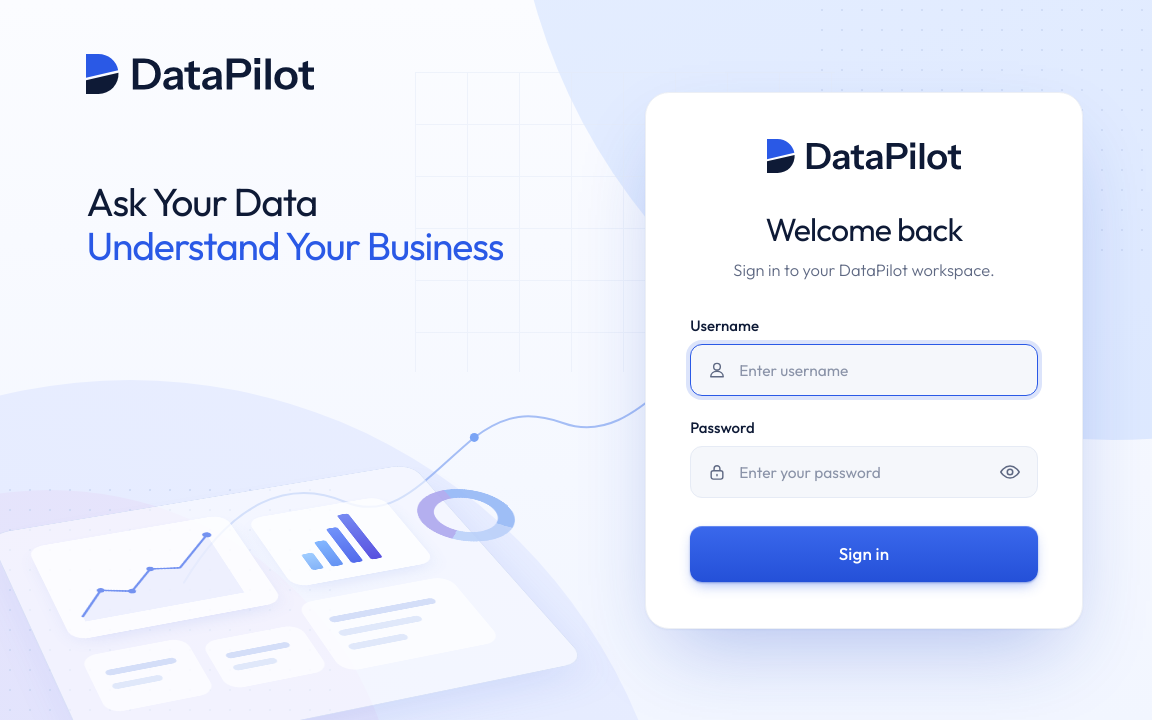
Scenario: login page › moves to the password when only the username is filled in
Type "demo-user-fake" into the field labelled "Username" at (880, 370), box left=739, top=344, right=1021, bottom=394
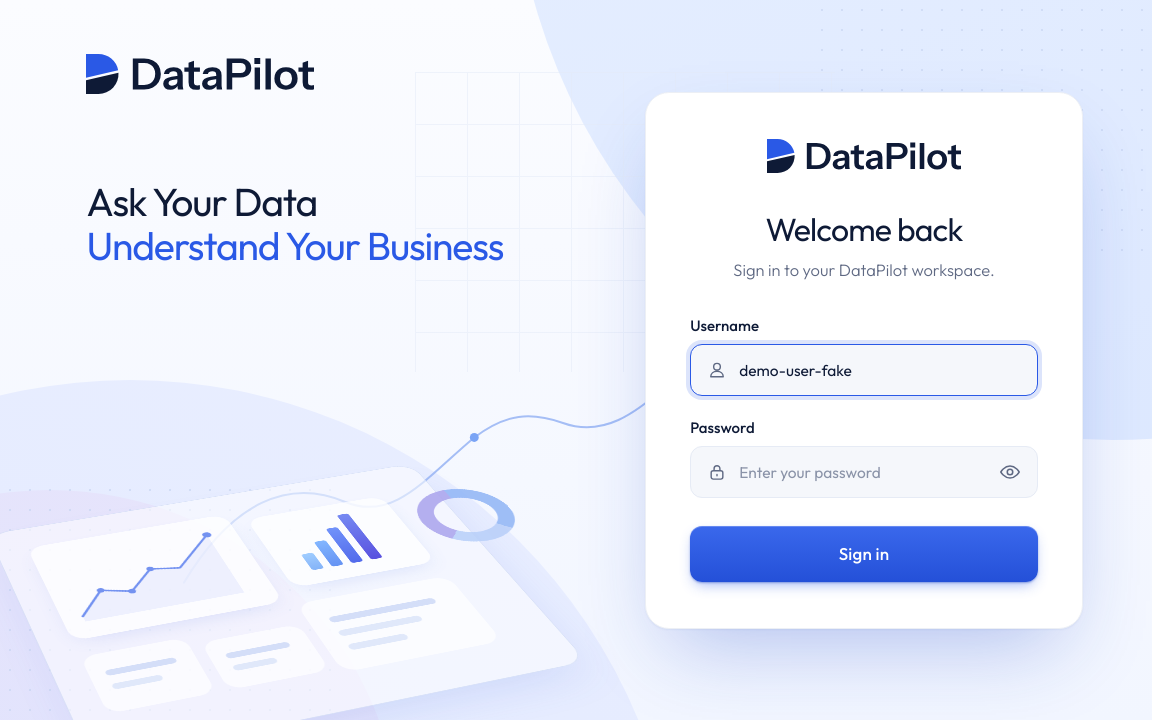
Click the button "Sign in" at (864, 554), box left=690, top=526, right=1038, bottom=582
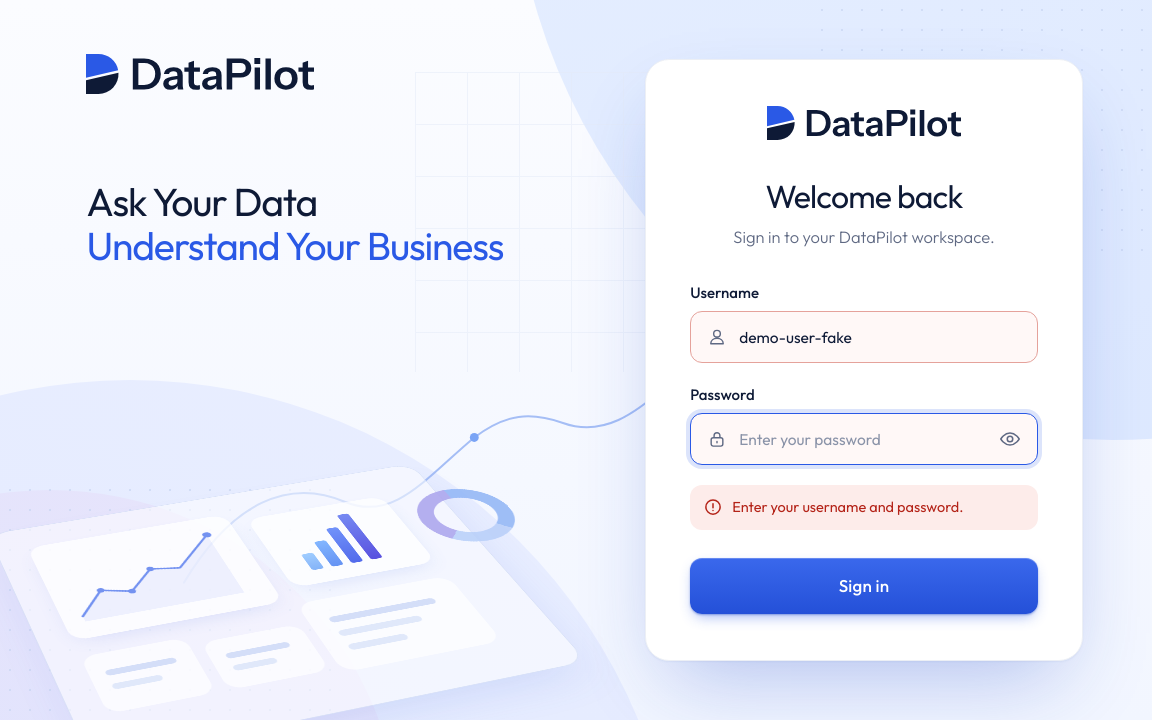
Check: the message reads "Enter your username and password.", box left=732, top=497, right=963, bottom=516
